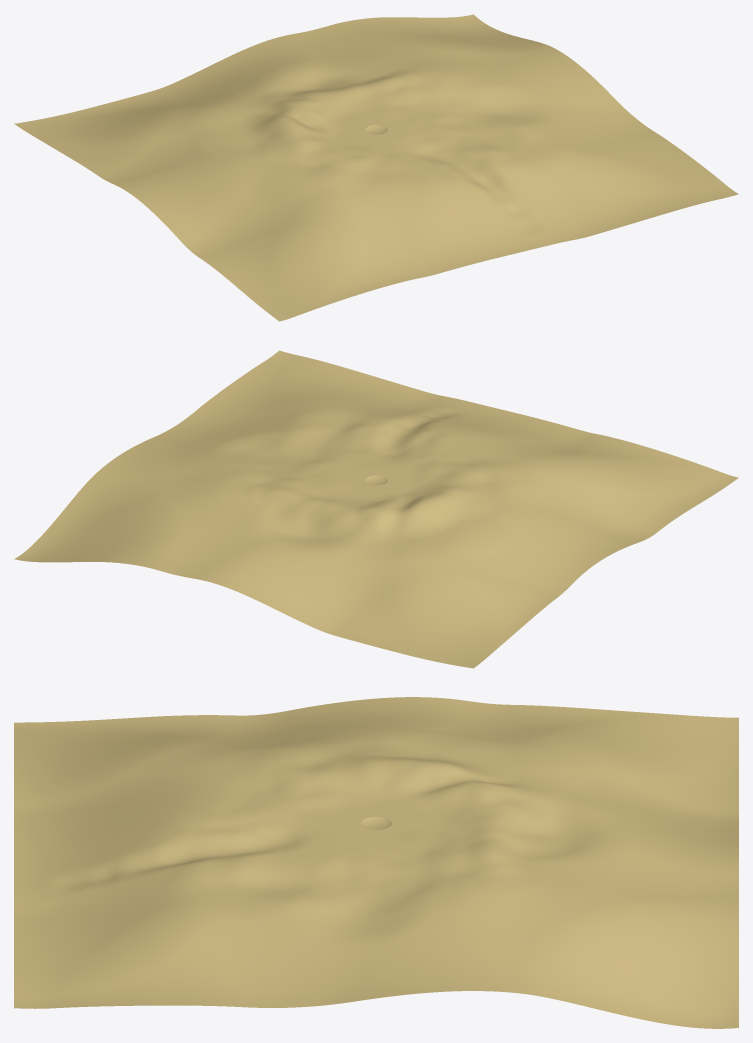
File: BallpitLagoon.fbx
The picture shows the model from 3 angles, top to bottom: view 1: azimuth 30°, elevation 25°; view 2: azimuth 150°, elevation 25°; view 3: azimuth 270°, elevation 25°; orthographic projection. The views are drawn at different scales.
Visible parts, largest first — view 1: Beach; view 2: Beach; view 3: Beach.
Part boxes in pixels (x1,y1,x2,y2): Beach: [14, 14, 738, 321]; Beach: [14, 350, 738, 668]; Beach: [14, 697, 738, 1028].
Size of what is drawn, in the model's own units: 37400 by 3741 by 37400.
